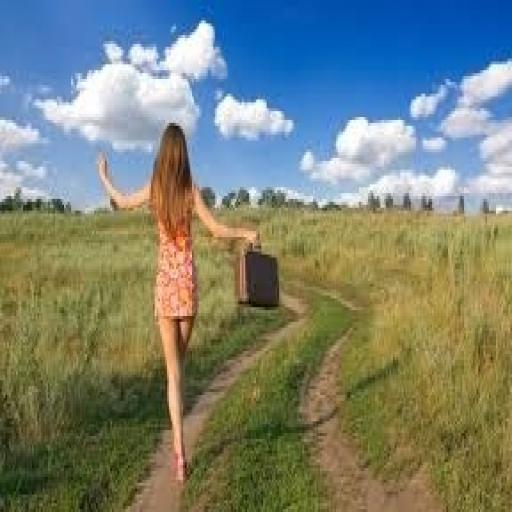running: (96, 120, 263, 486)
